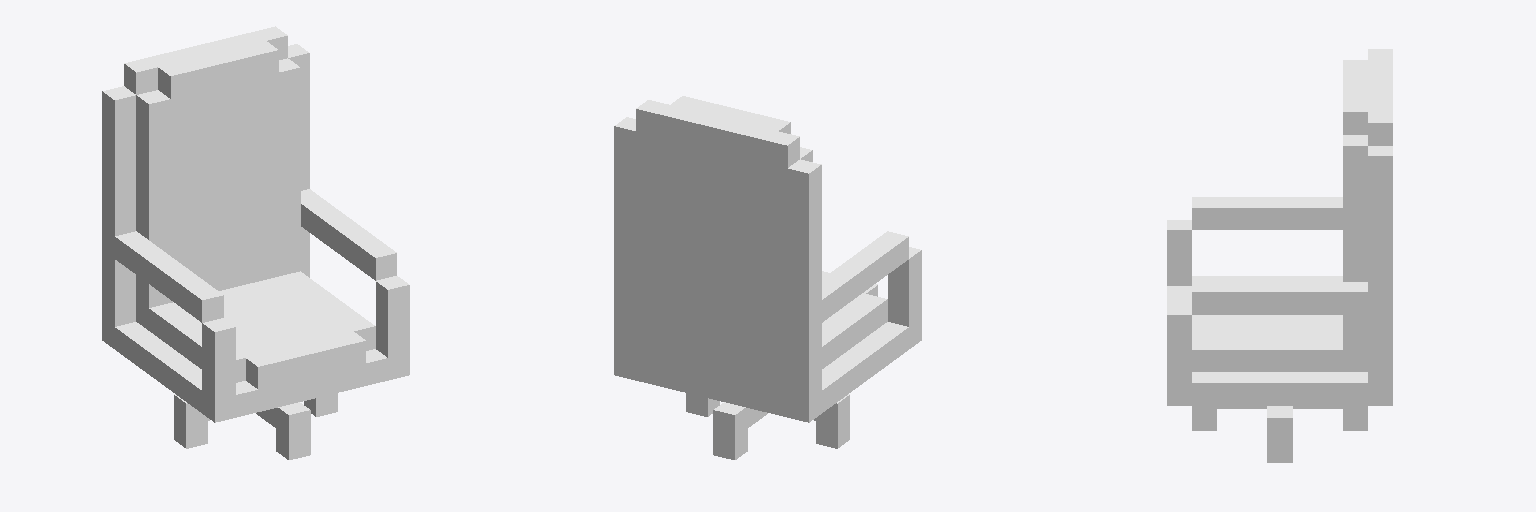
Rendered from Office_Chair_Set-15.obj.
3 renders of one model, left to right at view 1: azimuth 30°, elevation 25°; view 2: azimuth 150°, elevation 25°; view 3: azimuth 270°, elevation 25°, orthographic.
Visible parts, largest first — view 1: object 1; view 2: object 1; view 3: object 1.
Part boxes in pixels (x1,y1,x2,y2): object 1: (102, 26, 409, 459); object 1: (614, 96, 921, 459); object 1: (1167, 49, 1392, 462).
Bounding box in the file's own units: 0.9 × 1.5 × 0.9.